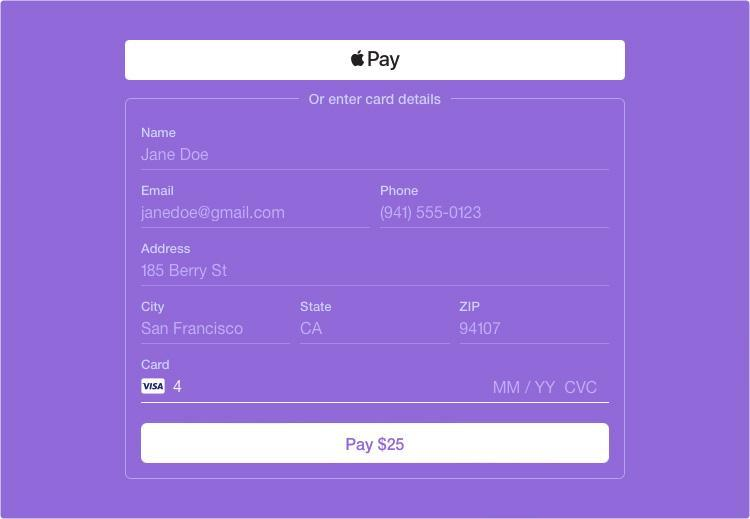button: (127, 40, 626, 81), (143, 422, 611, 465)
label: (308, 93, 443, 111), (379, 183, 421, 201), (141, 124, 180, 142), (142, 245, 194, 258), (140, 355, 175, 374), (143, 183, 179, 199), (140, 298, 169, 316), (299, 301, 335, 314), (459, 298, 483, 317)
